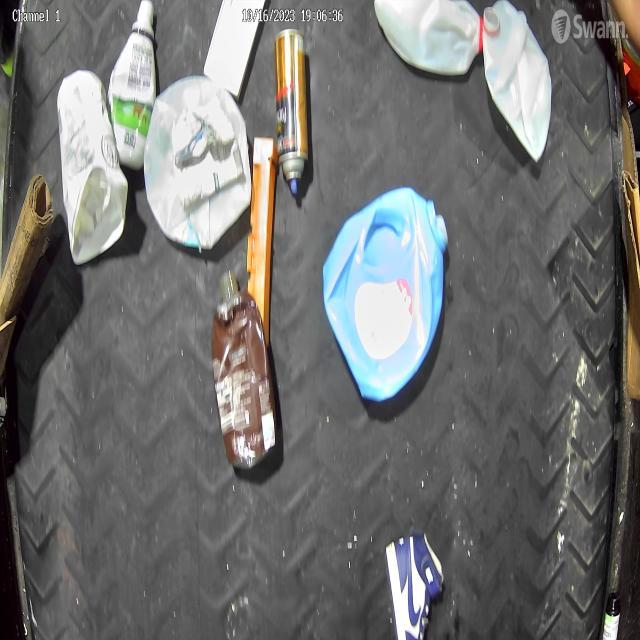can: (276, 28, 311, 198)
milk_jug: (142, 74, 254, 250), (56, 68, 129, 264), (482, 0, 554, 162), (373, 0, 484, 79)
non_white_jug: (322, 186, 450, 404)
